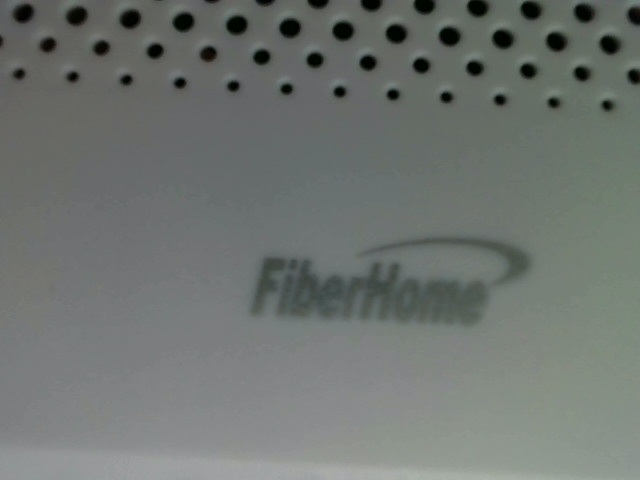AI_FiberHome: (228, 218, 548, 341)
